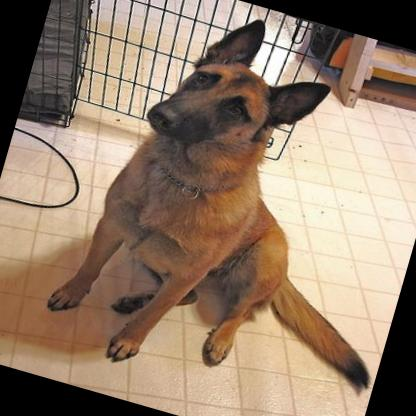malinois: (31, 0, 416, 416)
